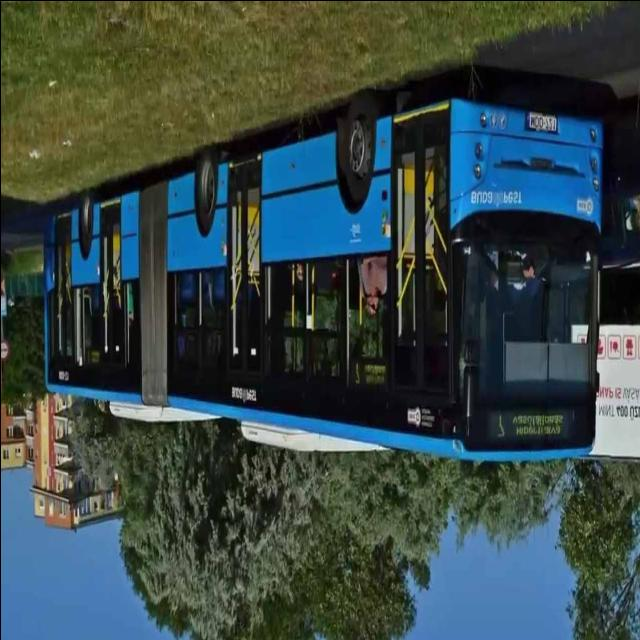bus: (37, 87, 605, 468)
